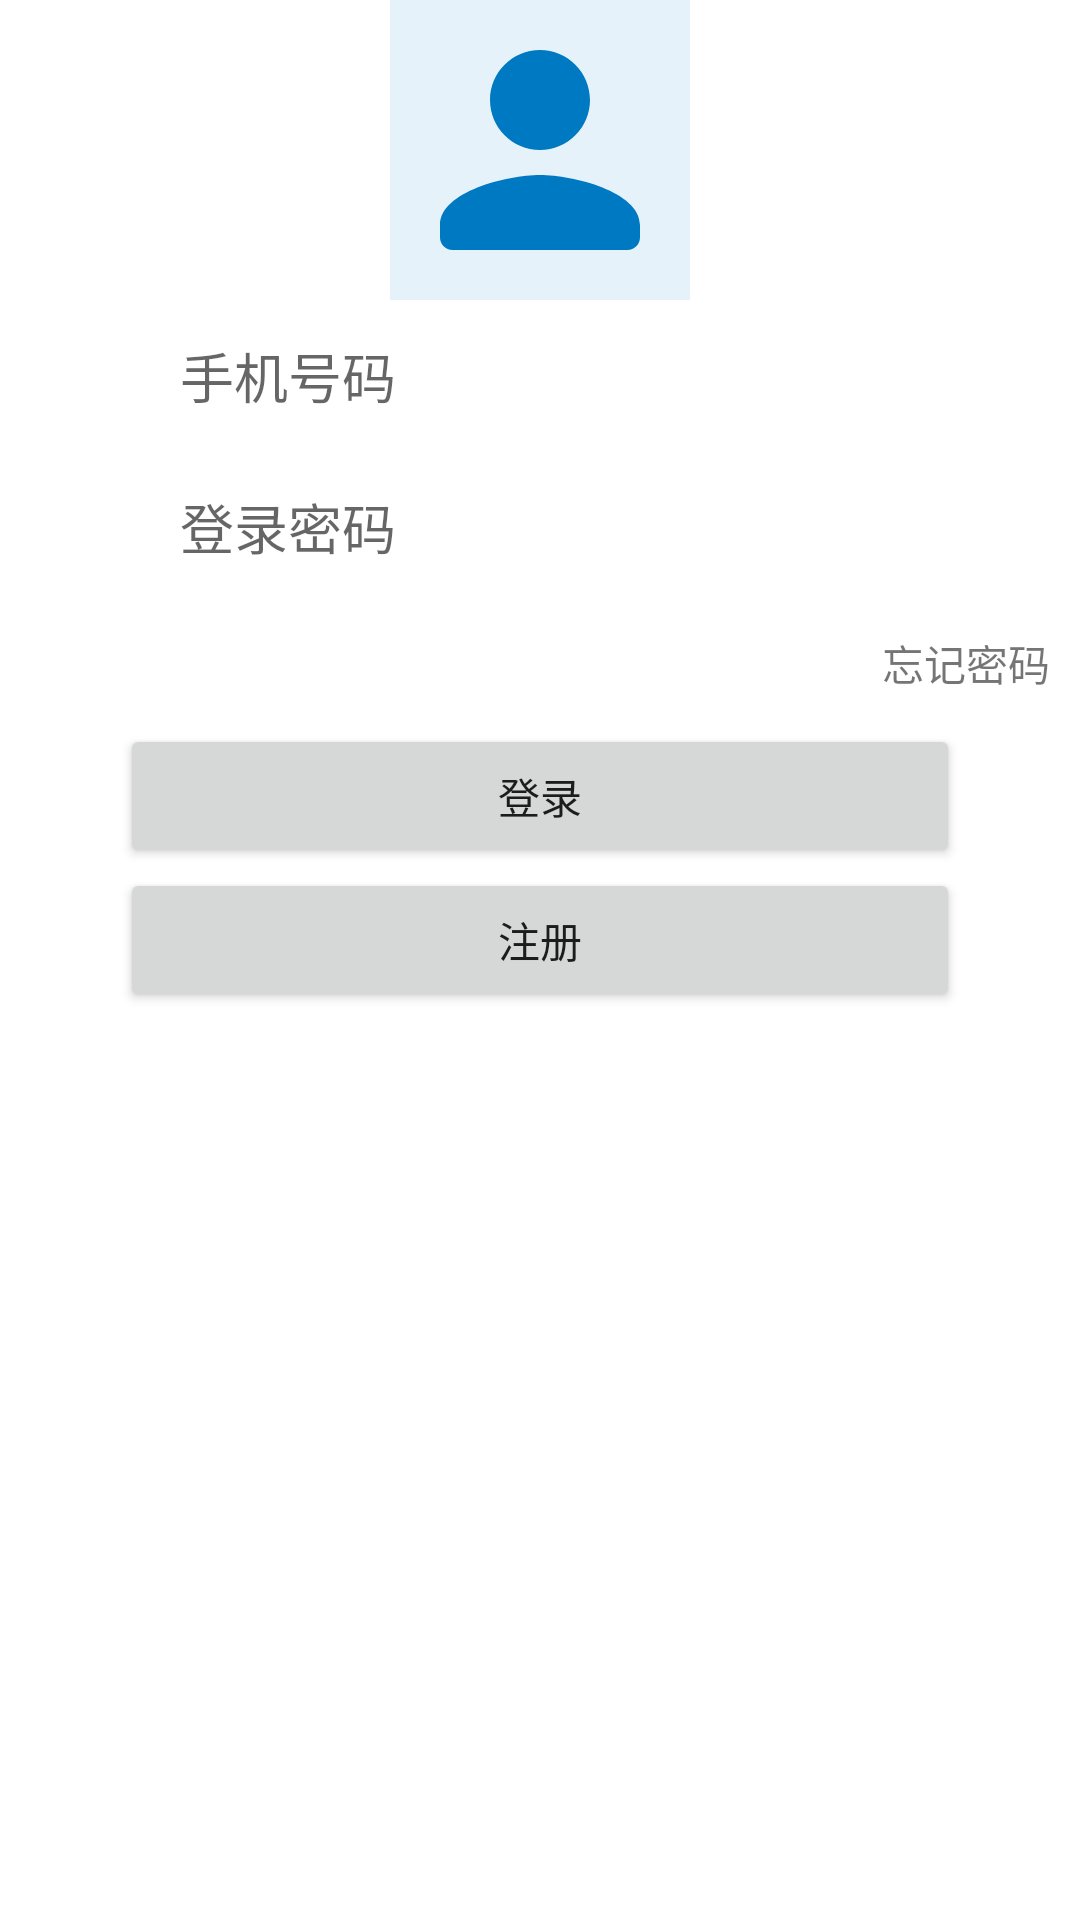

Named icons in this screenshot (1080x1920) and their centers, (x=x, y=y):
person with back: (x=540, y=150)
